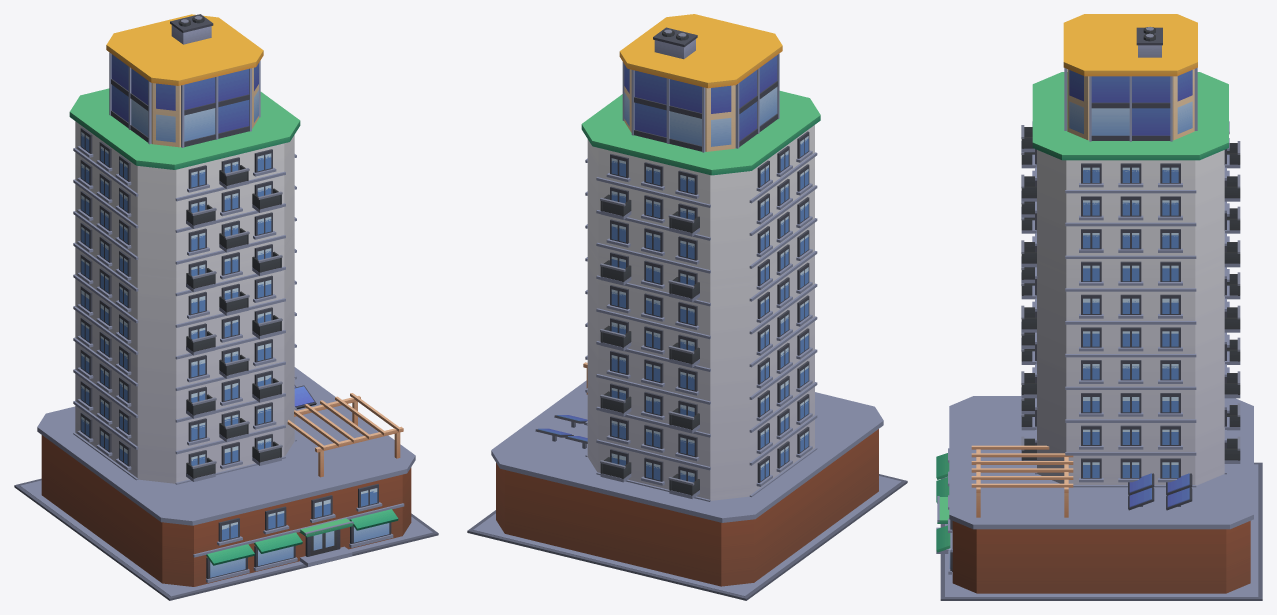
The model's file is res_tower_podium_2x2.glb.
3 views of the same model, side by side, from view 1: azimuth 30°, elevation 25°; view 2: azimuth 150°, elevation 25°; view 3: azimuth 270°, elevation 25° (orthographic). The views are drawn at different scales.
Visible parts, largest first — view 1: res_tower_podium_2x2; view 2: res_tower_podium_2x2; view 3: res_tower_podium_2x2.
Boxes of the visible parts, x1,y1,x2,y2 form: res_tower_podium_2x2: (14, 14, 438, 600); res_tower_podium_2x2: (467, 14, 907, 600); res_tower_podium_2x2: (936, 14, 1262, 600).
Size of the model in its own units: 3.73 by 6.33 by 3.78.
1 material, 1 textured.
